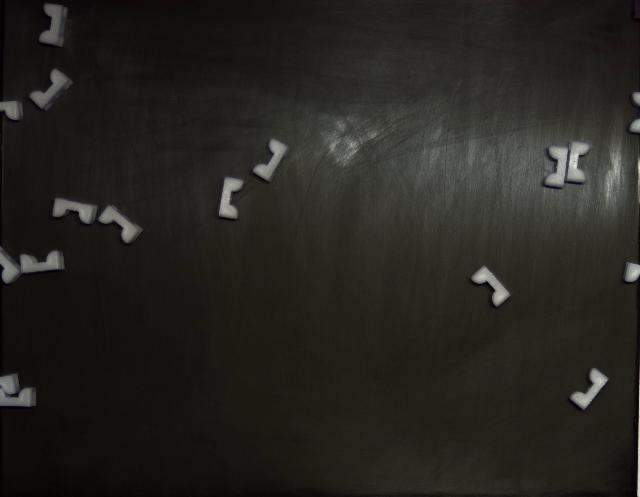third_side: (30, 69, 72, 110), (99, 205, 142, 244), (471, 266, 510, 308), (570, 369, 609, 410), (254, 139, 289, 182), (52, 198, 98, 225), (39, 4, 68, 46), (20, 250, 65, 274), (544, 146, 569, 189), (219, 178, 244, 220), (566, 141, 590, 184)
